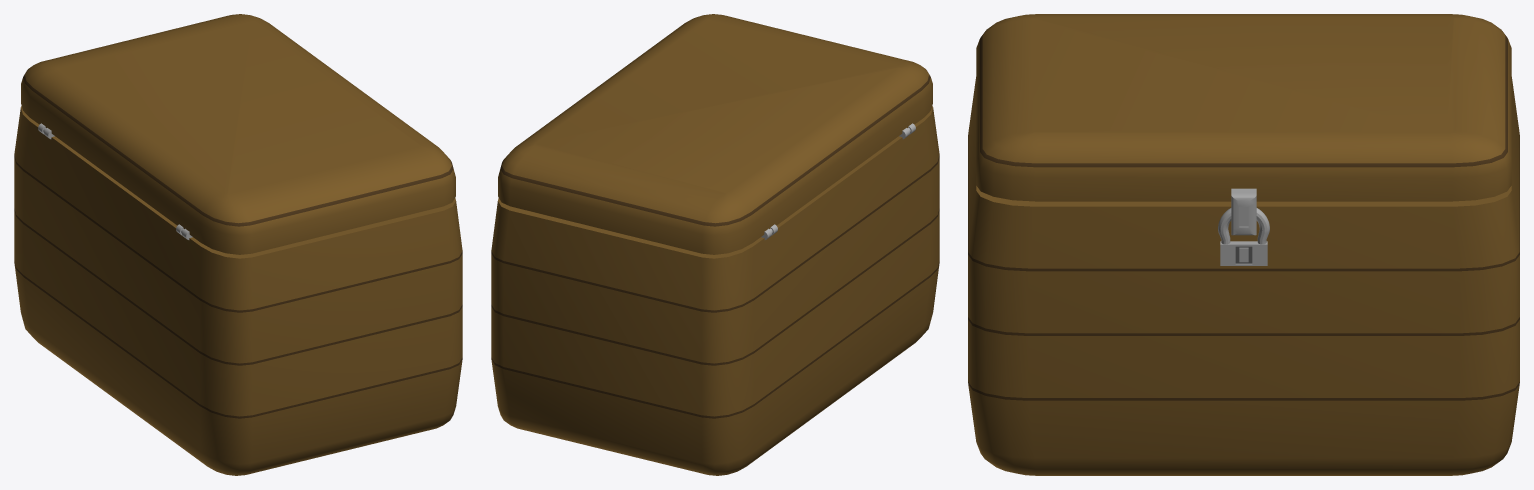
File: Chest.fbx
3 renders of one model, left to right at view 1: azimuth 30°, elevation 25°; view 2: azimuth 150°, elevation 25°; view 3: azimuth 270°, elevation 25°, orthographic. The views are drawn at different scales.
Visible parts, largest first — view 1: Chest, Kapak; view 2: Chest, Kapak; view 3: Chest, Kapak, Kilit Alt, kilit Üst.
Part boxes in pixels (<box>): Chest: <box>14,106,462,475</box>; Kapak: <box>21,14,455,254</box>; Chest: <box>491,106,939,475</box>; Kapak: <box>498,14,932,254</box>; Chest: <box>968,77,1519,475</box>; Kapak: <box>976,14,1511,235</box>; Kilit Alt: <box>1220,241,1267,265</box>; kilit Üst: <box>1218,208,1269,244</box>.
Size of the model in its own units: 215 by 215 by 317.
